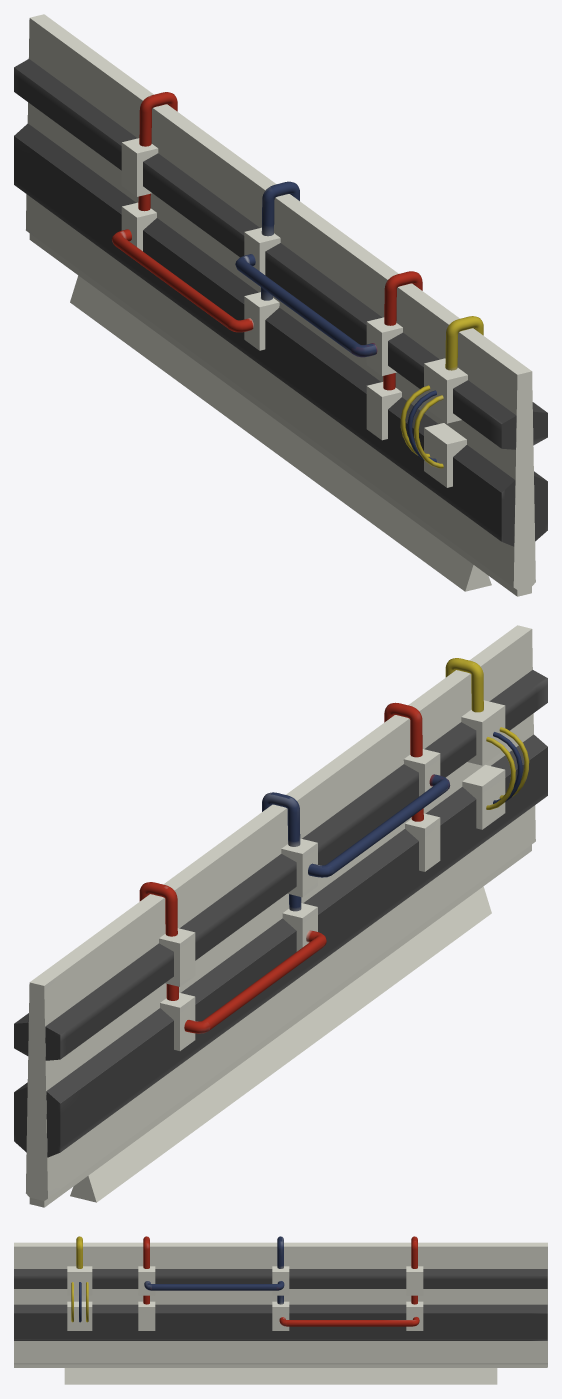
The model's file is Valla2.fbx.
3 renders of one model, top to bottom at view 1: azimuth 30°, elevation 25°; view 2: azimuth 150°, elevation 25°; view 3: azimuth 270°, elevation 25°, orthographic. The views are drawn at different scales.
Parts seen in each view (by area): view 1: Cube; view 2: Cube; view 3: Cube.
Part boxes in pixels (<box>): Cube: <box>14,14,547,596</box>; Cube: <box>14,625,547,1207</box>; Cube: <box>14,1236,547,1384</box>.
Bounding box in the file's own units: 108 × 234 × 797.
1 material, 1 textured.
